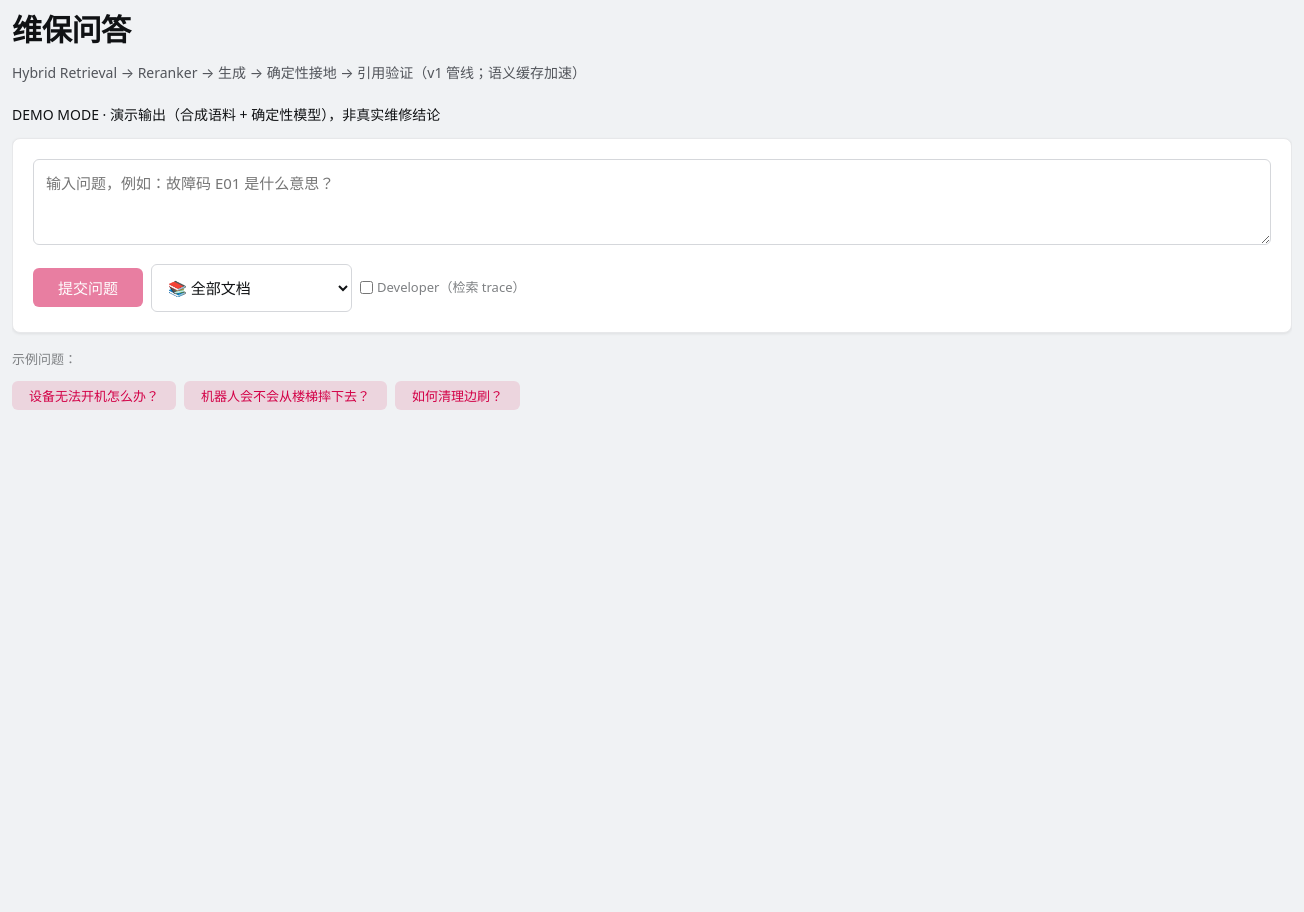
Scenario: QAPanel › shows refused status and abstained grounding
Type "如何登录火星" into the text box with placeholder "输入问题，例如：故障码 E01 是什么意思？" at (652, 202), box [33,159,1271,245]
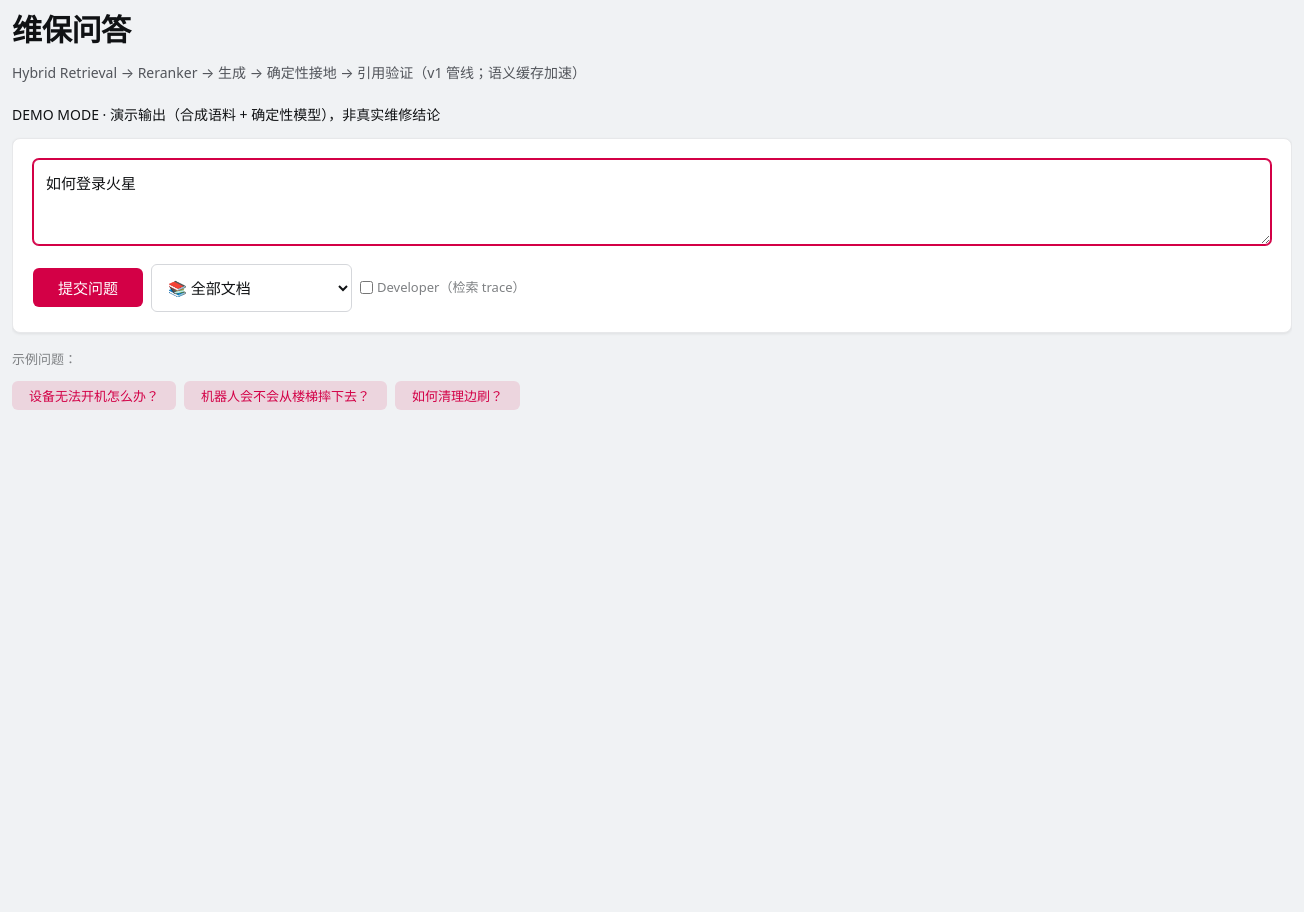
Click the button "提交问题" at (88, 288), box [33,268,143,307]
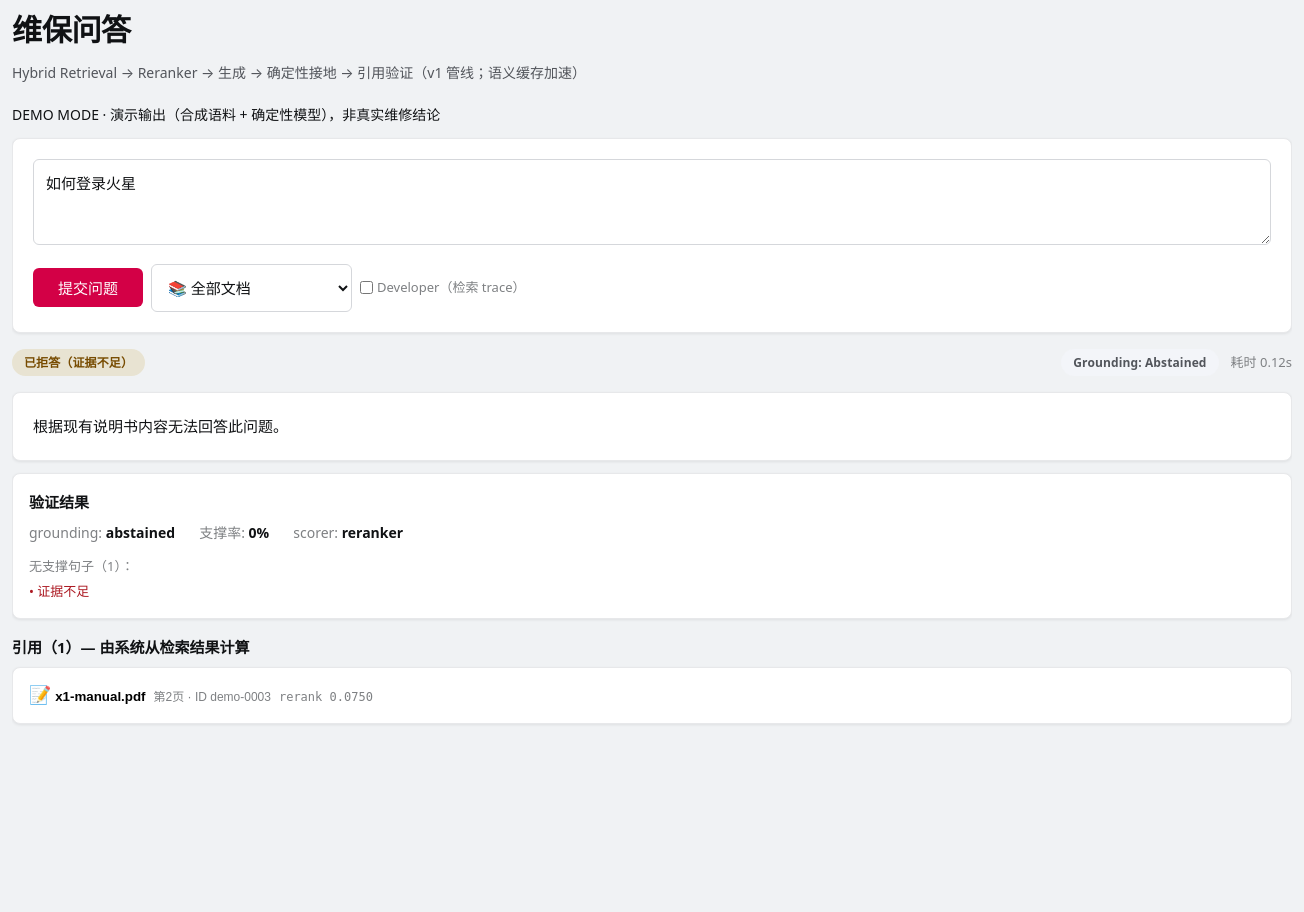
Result: the text "已拒答（证据不足）" is shown at [12,349,145,376]
Result: the text "Grounding: Abstained" is shown at [1061,349,1219,376]
